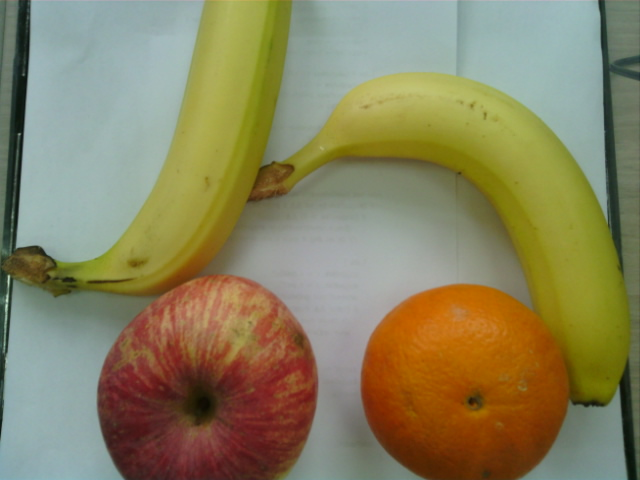normal_apple: (95, 275, 321, 480)
normal_banana: (276, 72, 634, 406), (59, 1, 292, 299)
normal_orange: (360, 281, 574, 480)
